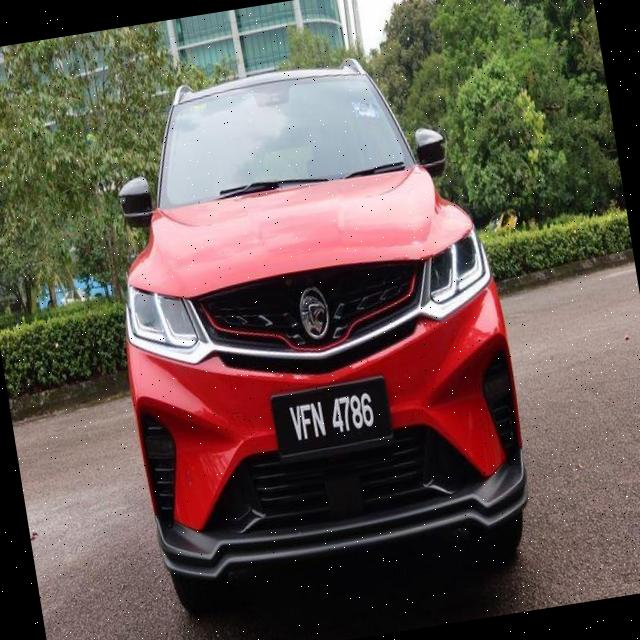License_Plate: (263, 372, 404, 467)
car: (41, 5, 612, 640)
